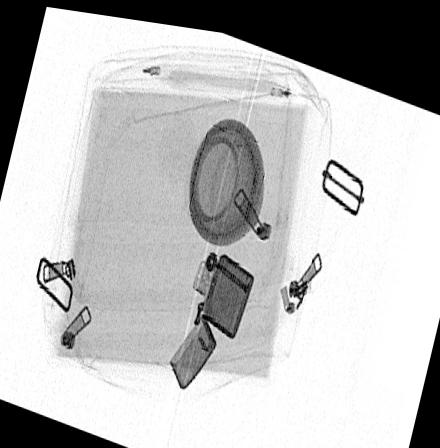Lighter: (169, 242, 255, 384)
